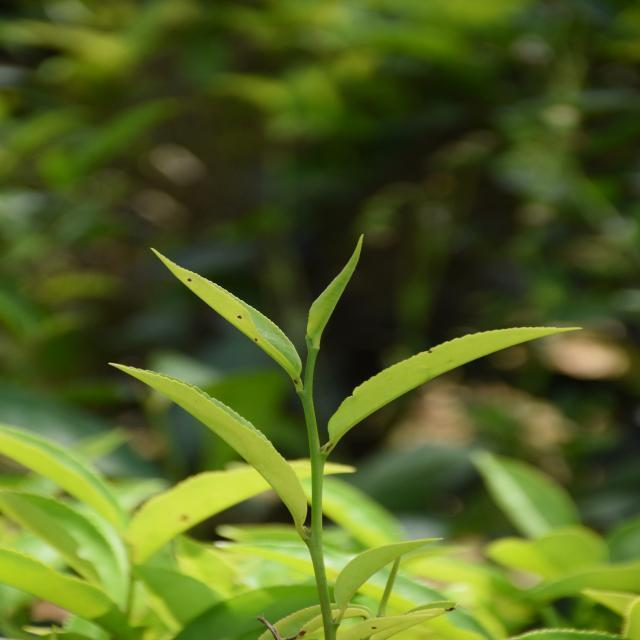Stem: (301, 387, 312, 406)
